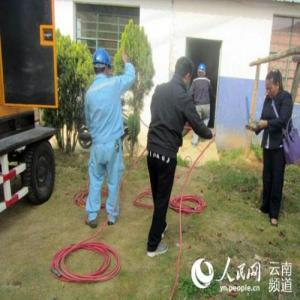blue: (93, 48, 111, 81), (198, 62, 208, 81)
none: (176, 54, 196, 86), (266, 69, 283, 101)
